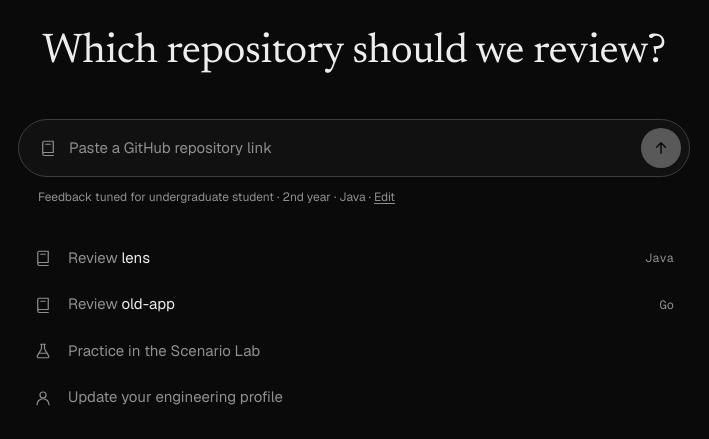
Test: import errors are shown in the server’s own words
Click the button "Review lens Java".
click(93, 257)  # box [18,237,690,280]
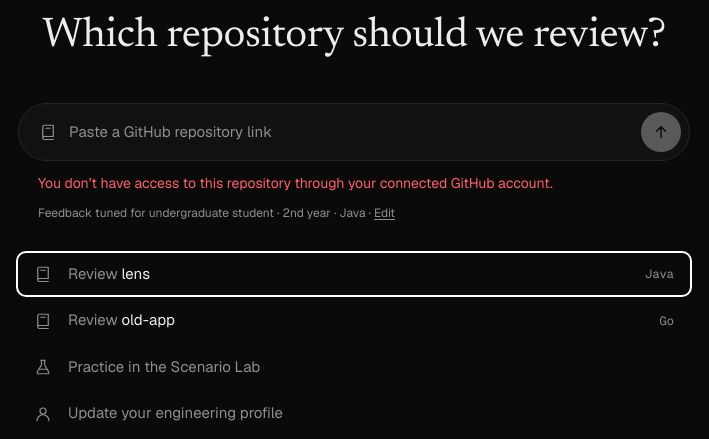
Expected: the button "Review lens Java" is enabled, [18,253,690,296]
Expected: the message shows "You don’t have access to this repository", [38,174,553,192]
